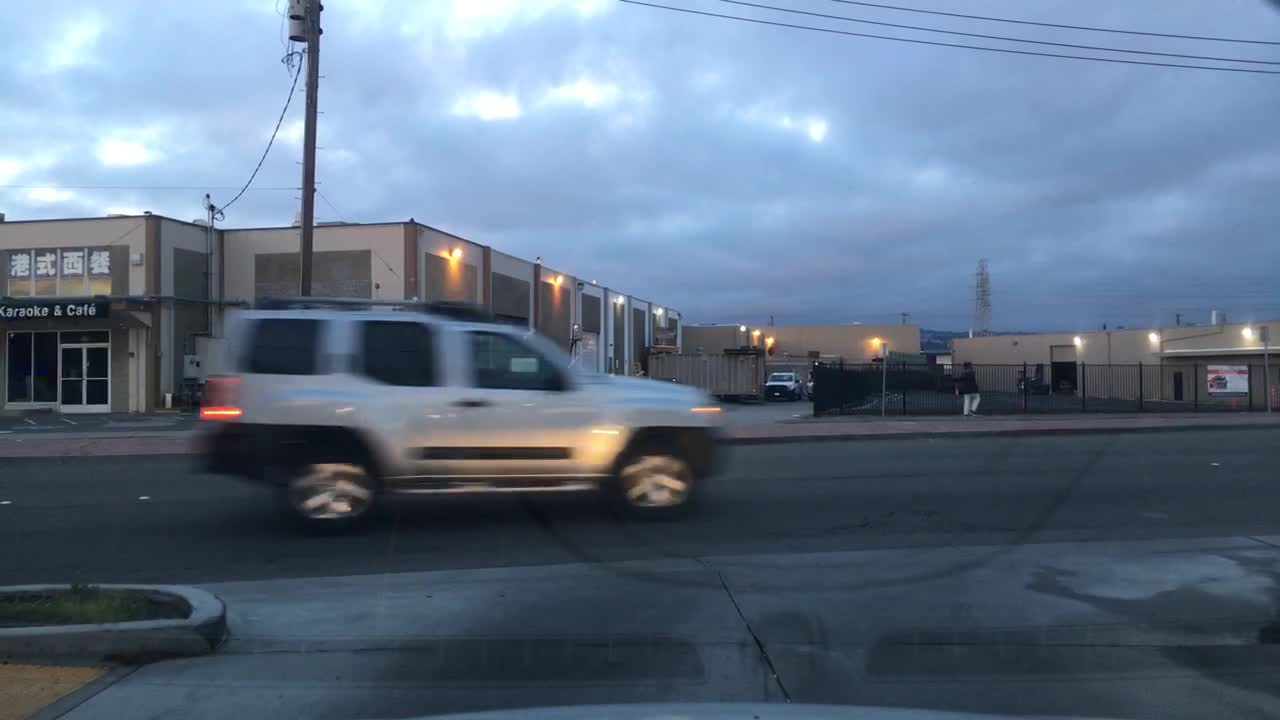car: (188, 293, 731, 532), (760, 370, 806, 402), (934, 374, 977, 397), (805, 371, 821, 399), (1054, 378, 1076, 394)
motor: (1015, 367, 1042, 395)
person: (955, 362, 981, 415)
